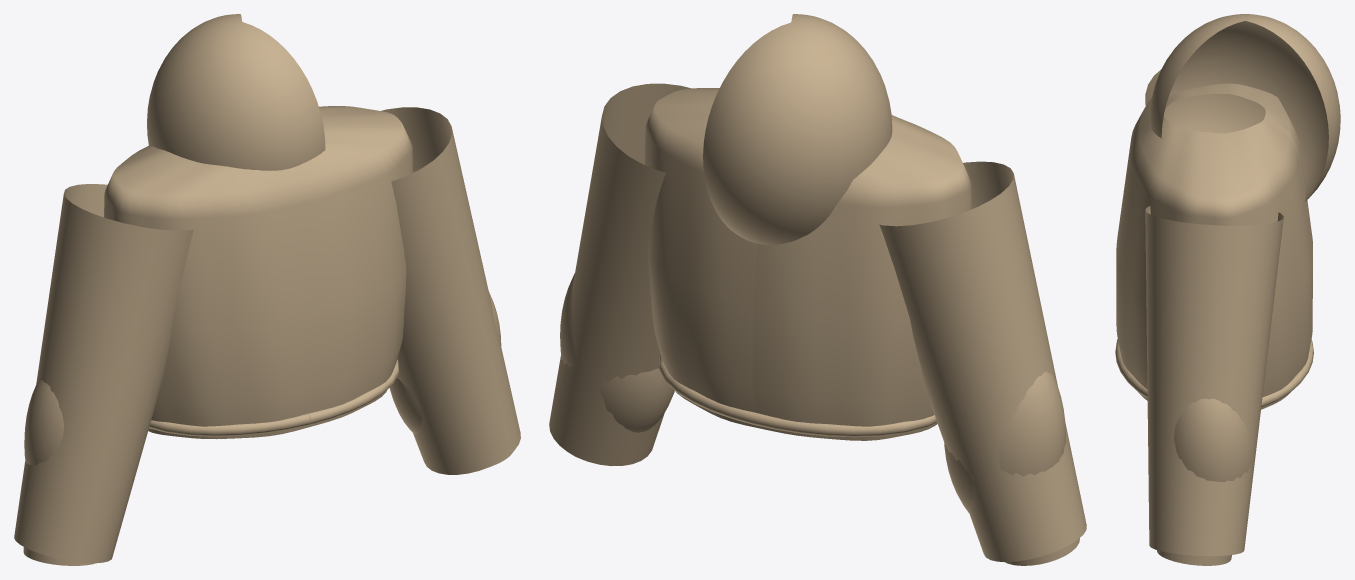
Rendered from hoodie-dune-homme.glb.
3 views of the same model, side by side, from view 1: azimuth 30°, elevation 25°; view 2: azimuth 150°, elevation 25°; view 3: azimuth 270°, elevation 25° (orthographic). The views are drawn at different scales.
Visible parts, largest first — view 1: hoodie-sable, long-sleeve (×2); view 2: hoodie-sable, long-sleeve (×2); view 3: hoodie-sable, long-sleeve.
Part boxes in pixels (x1,y1,x2,y2): hoodie-sable: [23, 14, 512, 565]; long-sleeve (×2): [14, 107, 520, 563]; hoodie-sable: [560, 14, 1079, 565]; long-sleeve (×2): [549, 83, 1086, 562]; hoodie-sable: [1115, 14, 1340, 565]; long-sleeve: [1145, 206, 1283, 556].
Bounding box in the file's own units: 0.7909 × 0.7203 × 0.3307.
